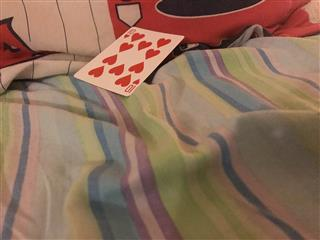TenOfHearts: (72, 25, 185, 96)
